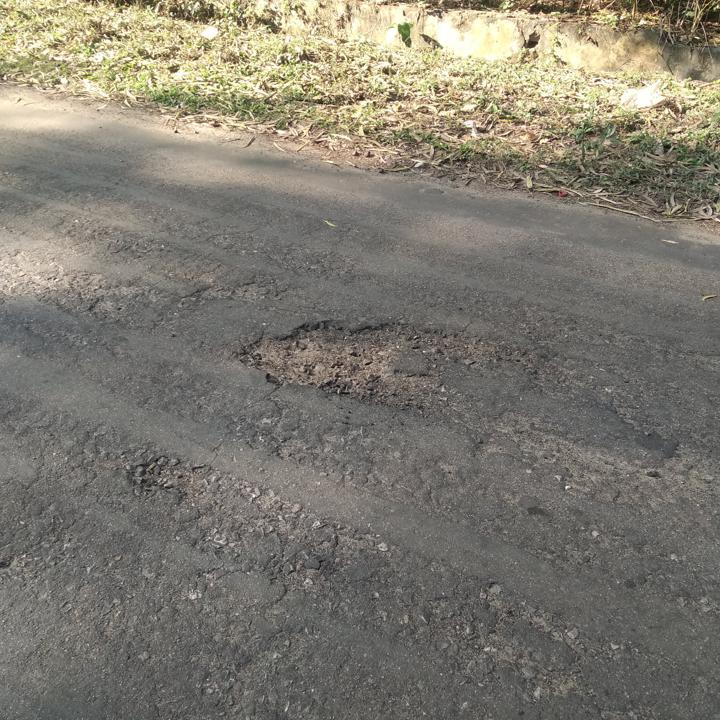pothole: (233, 315, 528, 412), (125, 453, 212, 507)
